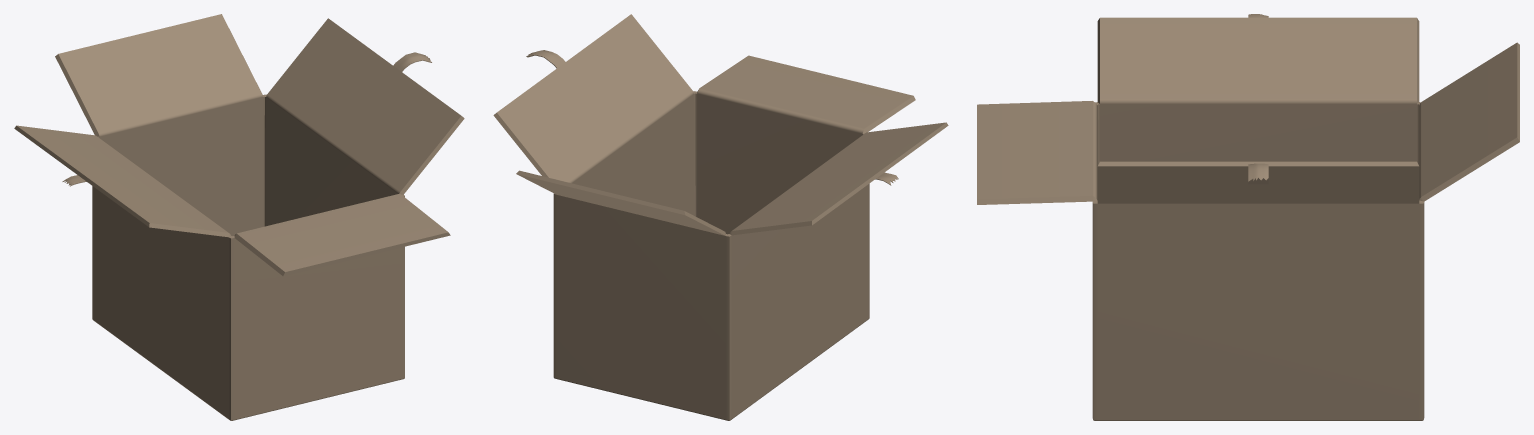
3 renders of one model, left to right at view 1: azimuth 30°, elevation 25°; view 2: azimuth 150°, elevation 25°; view 3: azimuth 270°, elevation 25°, orthographic. The views are drawn at different scales.
Parts seen in each view (by area): view 1: Box11; view 2: Box11; view 3: Box11.
Boxes of the visible parts, x1,y1,x2,y2 form: Box11: (14, 14, 464, 420); Box11: (493, 14, 948, 420); Box11: (977, 14, 1519, 420).
Size of the model in its own units: 0.8278 by 0.5523 by 0.9021.
